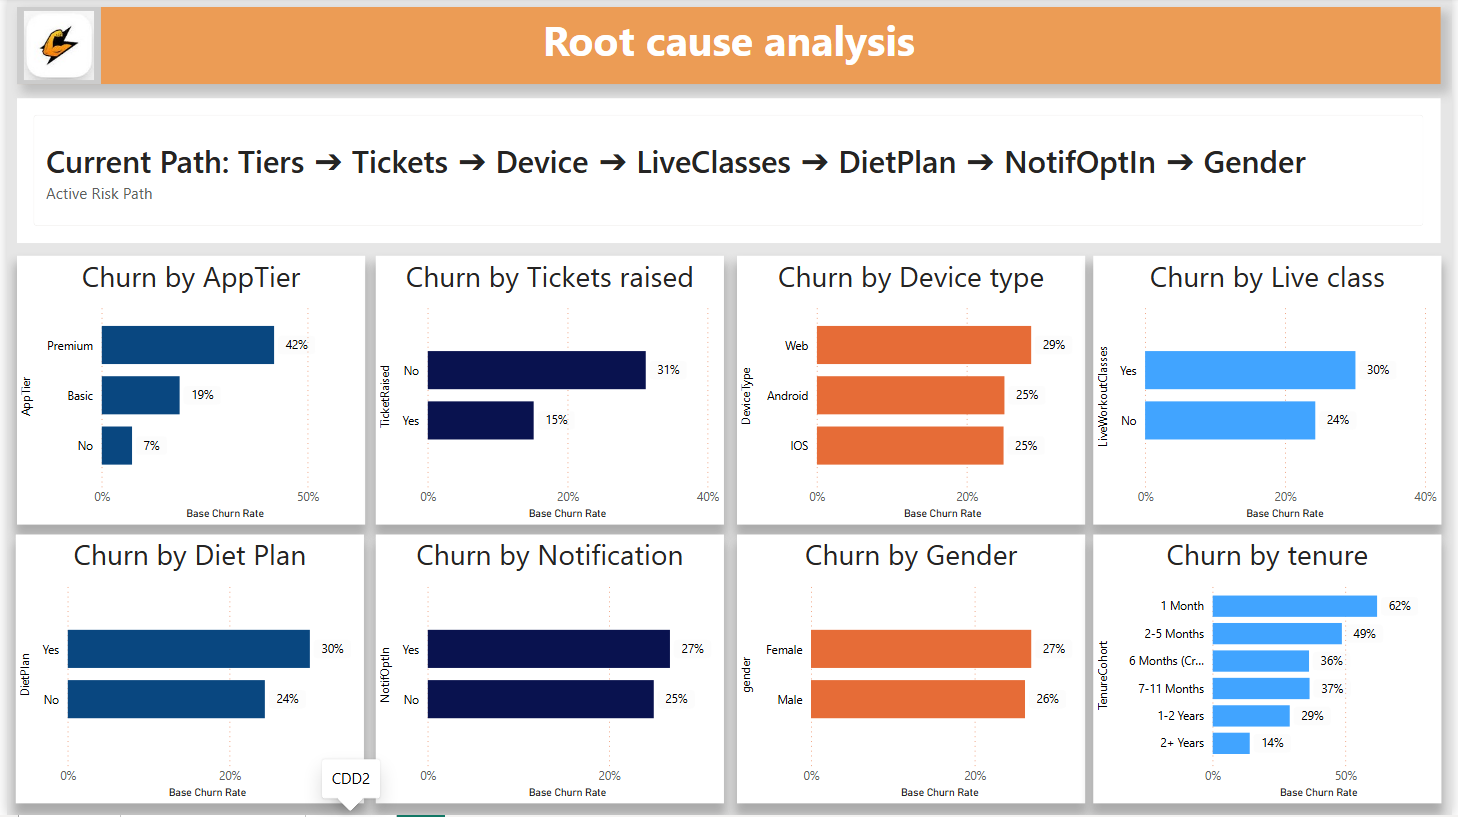

The page's visual inventory and layout, read from the dashboard file:
{"tool":"powerbi","page":{"name":"CDD2","canvas":[1500,850],"ordinal":2},"visuals":[{"type":"textbox","box":[9.8,9.8,1478.5,80.1],"z":0},{"type":"image","box":[9.8,9.8,87.1,80.1],"z":1000},{"type":"clusteredBarChart","title":"Churn by AppTier","fields":{"Y":["Churn Dashboard v1.Base Churn Rate"],"Category":["Churn Dashboard v1.AppTier"]},"box":[9.8,269.4,361.6,279],"z":2000},{"type":"clusteredBarChart","title":"Churn by Tickets raised","fields":{"Y":["Churn Dashboard v1.Base Churn Rate"],"Category":["Churn Dashboard v1.TicketRaised"]},"box":[382.7,269.4,361.6,279],"z":3000},{"type":"clusteredBarChart","title":"Churn by Device type","fields":{"Y":["Churn Dashboard v1.Base Churn Rate"],"Category":["Churn Dashboard v1.DeviceType"]},"box":[758.4,269.4,361.6,279],"z":4000},{"type":"clusteredBarChart","title":"Churn by Live class","fields":{"Y":["Churn Dashboard v1.Base Churn Rate"],"Category":["Churn Dashboard v1.LiveWorkoutClasses"]},"box":[1128.5,269.4,361.6,279],"z":5000},{"type":"cardVisual","fields":{"Data":["Churn Dashboard v1.Active Risk Path"]},"box":[9.8,105.4,1478.5,150.4],"z":6000},{"type":"clusteredBarChart","title":"Churn by Diet Plan","fields":{"Y":["Churn Dashboard v1.Base Churn Rate"],"Category":["Churn Dashboard v1.DietPlan"]},"box":[9.7,558.4,361.6,279],"z":7000},{"type":"clusteredBarChart","title":"Churn by Notification","fields":{"Y":["Churn Dashboard v1.Base Churn Rate"],"Category":["Churn Dashboard v1.NotifOptIn"]},"box":[382.6,558.4,361.6,279],"z":8000},{"type":"clusteredBarChart","title":"Churn by Gender","fields":{"Y":["Churn Dashboard v1.Base Churn Rate"],"Category":["Churn Dashboard v1.gender"]},"box":[758.3,558.4,361.6,279],"z":9000},{"type":"clusteredBarChart","title":"Churn by tenure","fields":{"Y":["Churn Dashboard v1.Base Churn Rate"],"Category":["Churn Dashboard v1.TenureCohort"]},"box":[1128.2,558.4,361.6,279],"z":10000}]}

Visuals, with their boxes in screenshot pixels (x1, y1, x2, y2), scaled from the page's 1500x850 canvas onto the 1458x817 screenshot:
textbox: BBox(10, 9, 1447, 86)
image: BBox(10, 9, 94, 86)
"Churn by AppTier" clusteredBarChart: BBox(10, 259, 361, 527)
"Churn by Tickets raised" clusteredBarChart: BBox(372, 259, 723, 527)
"Churn by Device type" clusteredBarChart: BBox(737, 259, 1089, 527)
"Churn by Live class" clusteredBarChart: BBox(1097, 259, 1448, 527)
cardVisual - Churn Dashboard v1.Active Risk Path: BBox(10, 101, 1447, 246)
"Churn by Diet Plan" clusteredBarChart: BBox(9, 537, 361, 805)
"Churn by Notification" clusteredBarChart: BBox(372, 537, 723, 805)
"Churn by Gender" clusteredBarChart: BBox(737, 537, 1089, 805)
"Churn by tenure" clusteredBarChart: BBox(1097, 537, 1448, 805)
